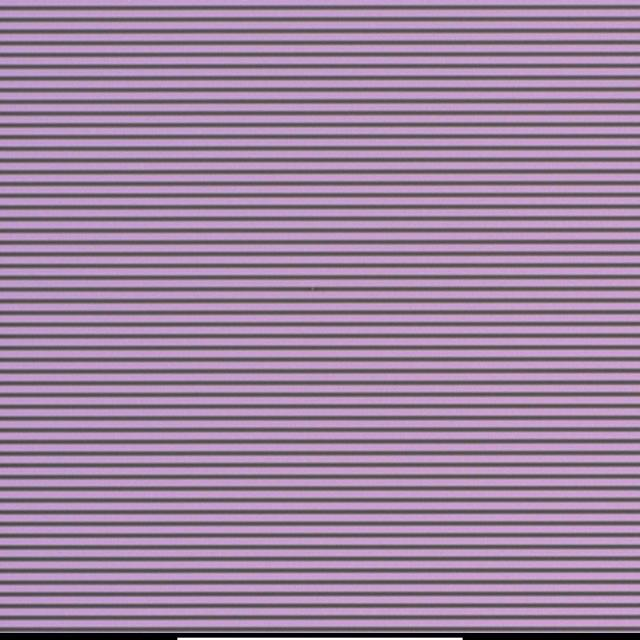03_intrusion: (306, 282, 318, 293)
